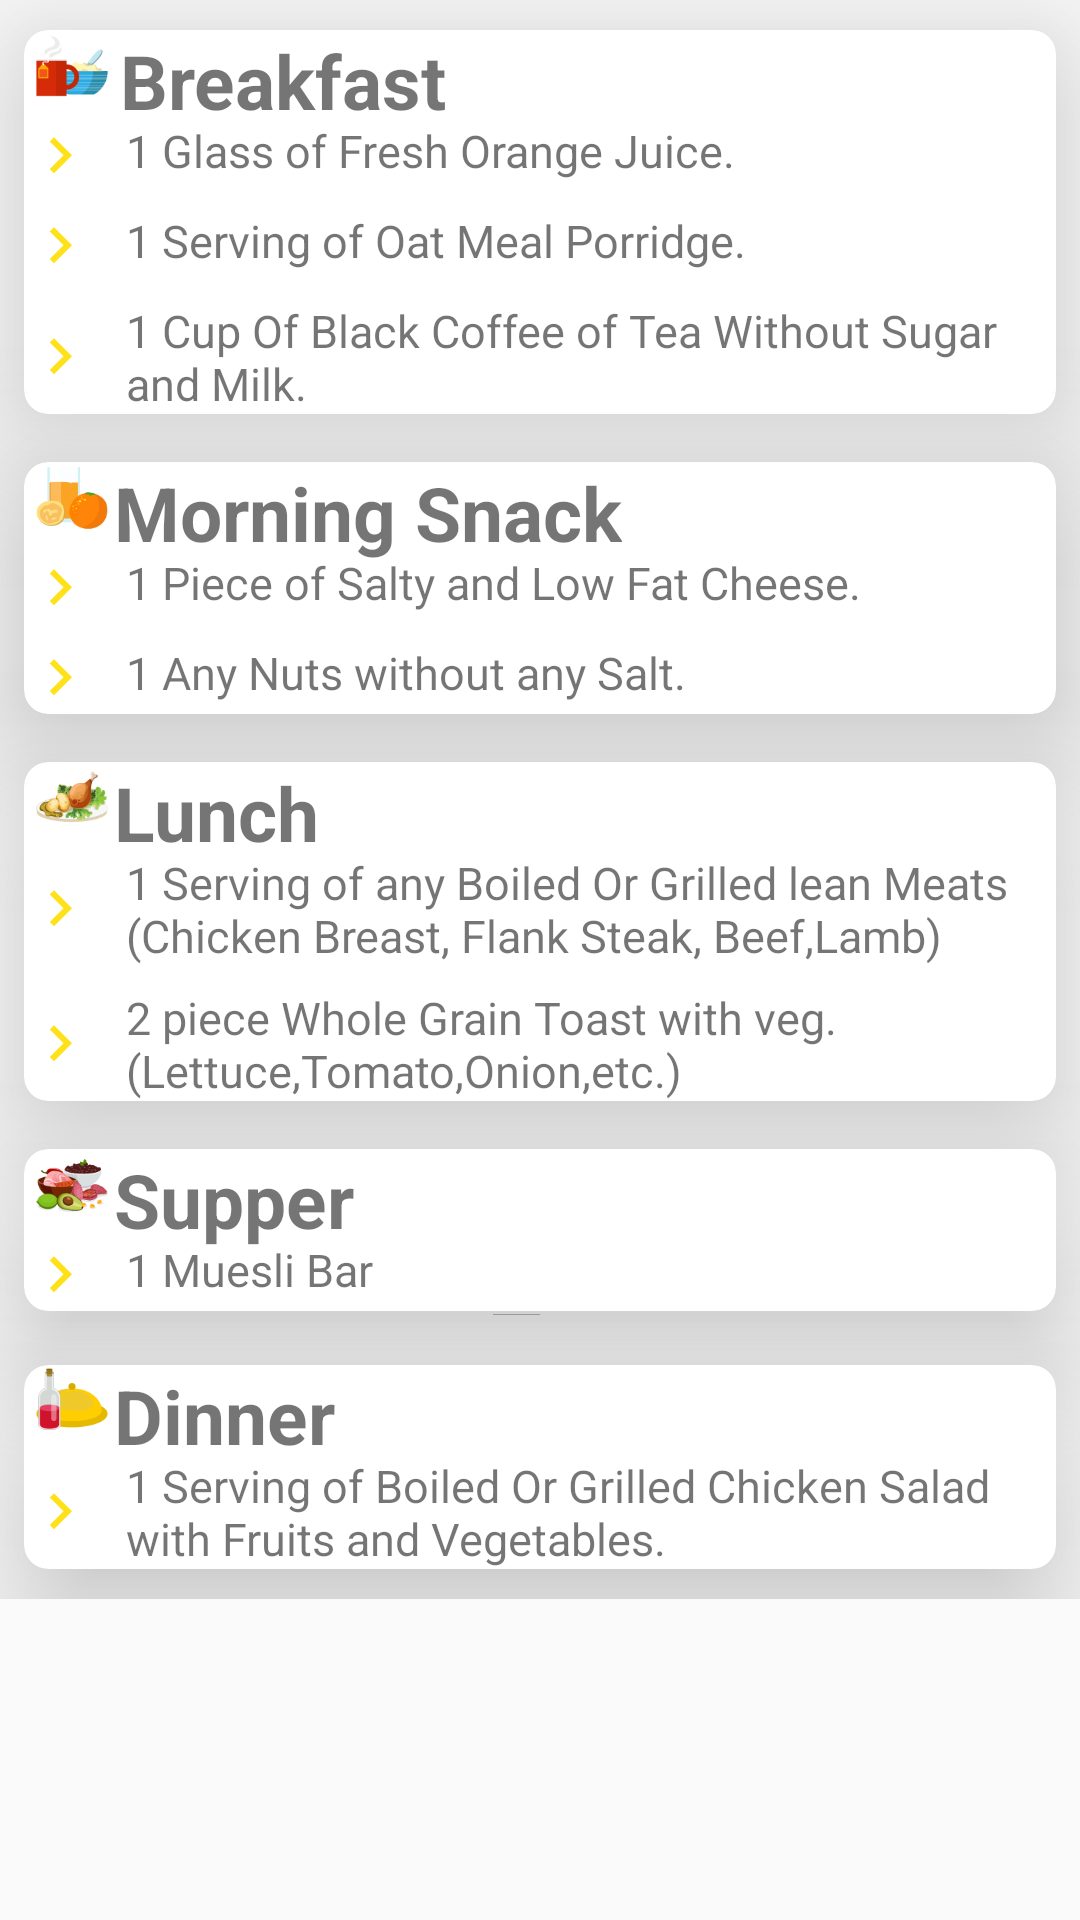

Icon click points for this 1080 x 1920 phone screenshot, format (x,y):
snacks: (72,498)
